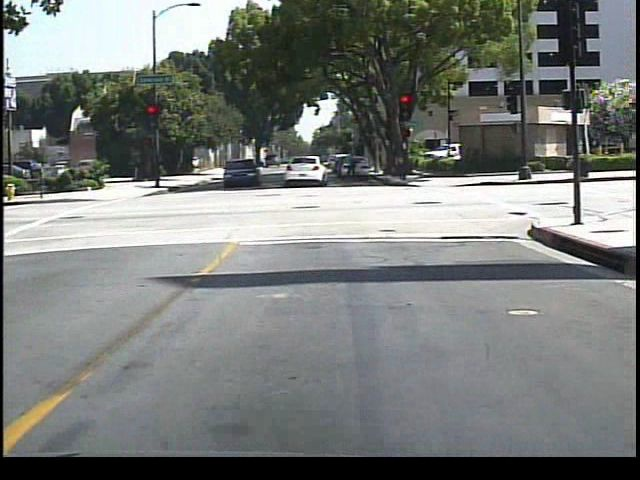person: (342, 146, 360, 185)
